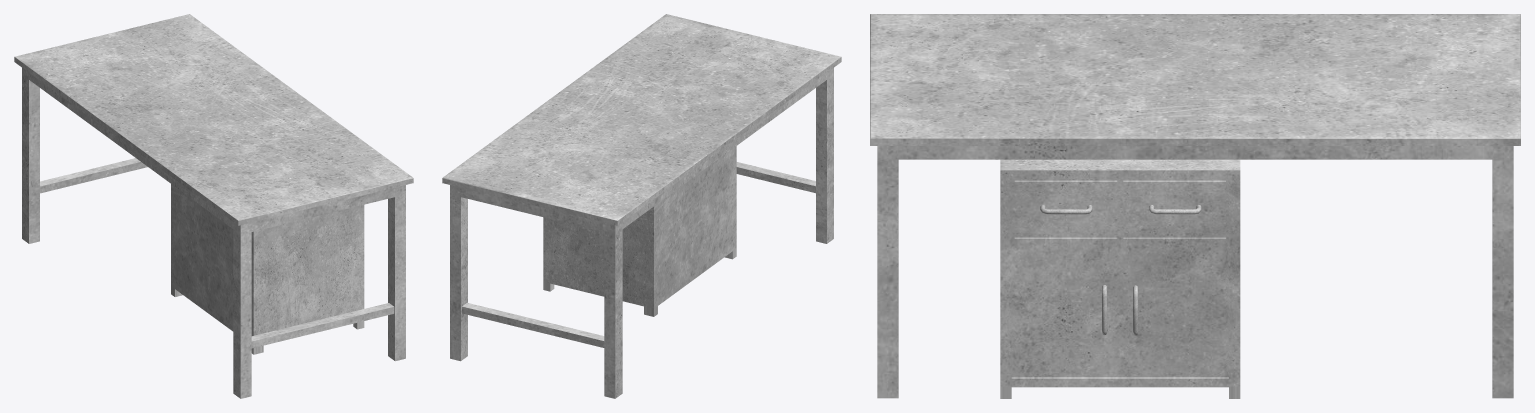
The model's file is Table.glb.
The picture shows the model from 3 angles, left to right: view 1: azimuth 30°, elevation 25°; view 2: azimuth 150°, elevation 25°; view 3: azimuth 270°, elevation 25°; orthographic projection. The views are drawn at different scales.
Visible parts, largest first — view 1: Cube_Material_0, Cube; view 2: Cube_Material_0, Cube; view 3: Cube_Material_0, Cube.
Boxes of the visible parts, x1,y1,x2,y2 form: Cube_Material_0: [14, 14, 413, 398]; Cube: [171, 184, 364, 354]; Cube_Material_0: [442, 14, 841, 398]; Cube: [543, 146, 736, 316]; Cube_Material_0: [870, 14, 1520, 398]; Cube: [1000, 159, 1240, 398].
Size of the model in its own units: 3.24 by 3.14 by 7.02.
Materials: 2 (2 with a texture image).
